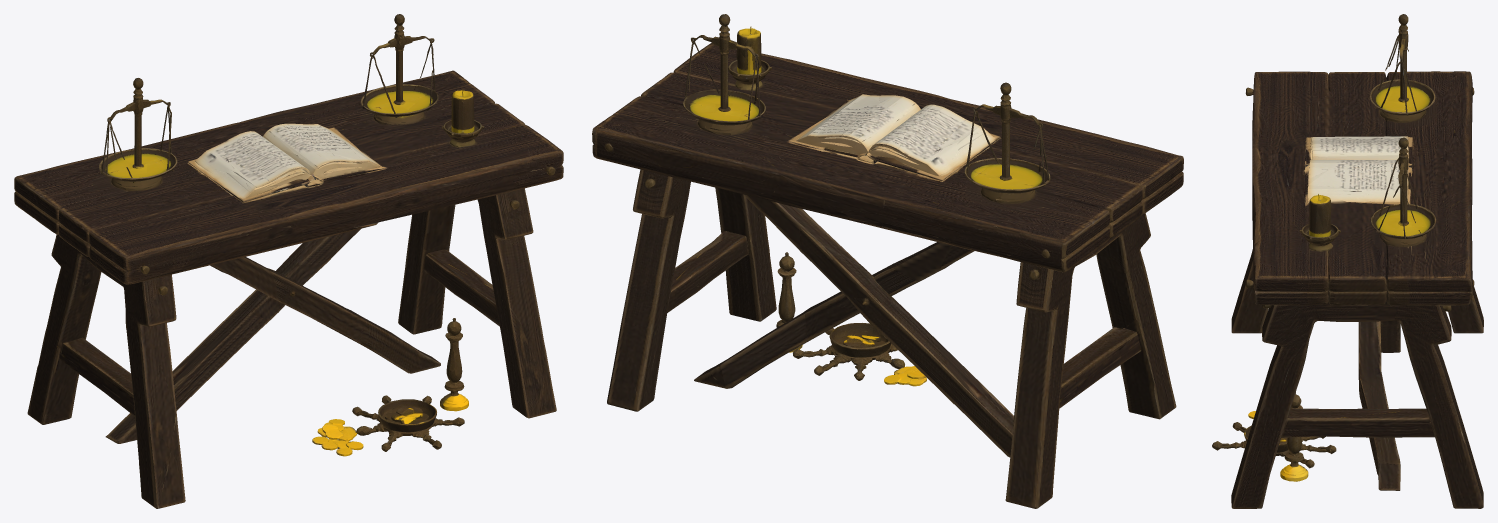
The picture shows the model from 3 angles, left to right: view 1: azimuth 30°, elevation 25°; view 2: azimuth 150°, elevation 25°; view 3: azimuth 270°, elevation 25°; orthographic projection. The views are drawn at different scales.
Size of the model in its own units: 1.9 by 1.45 by 1.05.
1 material, 1 textured.
